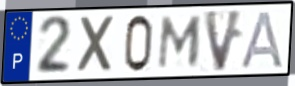0: (123, 13, 155, 74)
2: (37, 14, 74, 78)
A: (239, 9, 285, 70)
M: (156, 14, 205, 71)
V: (201, 8, 246, 75)
X: (76, 14, 118, 76)
